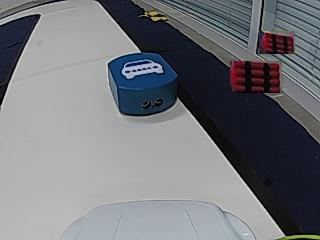safety: (120, 58, 164, 79)
